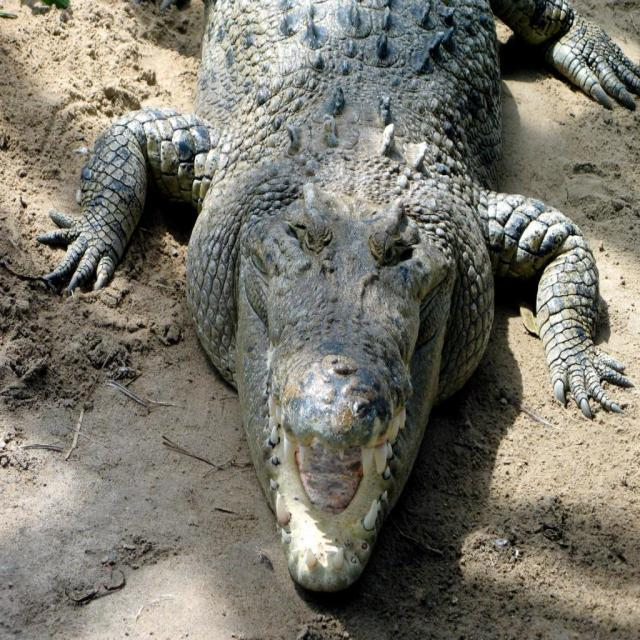crocodile: (29, 0, 639, 600)
